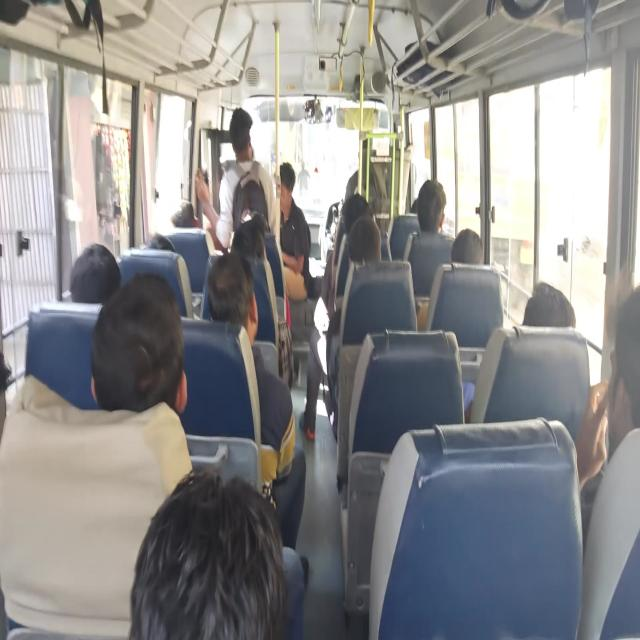person: (146, 478, 312, 640), (102, 272, 185, 419), (509, 266, 618, 366), (340, 225, 427, 315), (598, 309, 640, 479), (210, 258, 278, 346), (227, 218, 278, 295), (79, 237, 119, 302), (275, 147, 315, 208), (229, 112, 261, 169), (448, 226, 486, 266), (424, 173, 446, 235), (148, 222, 177, 265), (405, 191, 440, 221), (340, 193, 369, 224), (172, 203, 198, 236), (248, 203, 275, 227)
